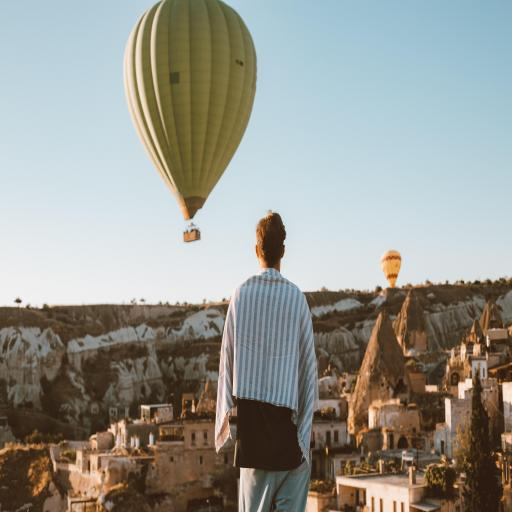hot air ballon: (122, 0, 257, 243), (380, 250, 401, 288)
